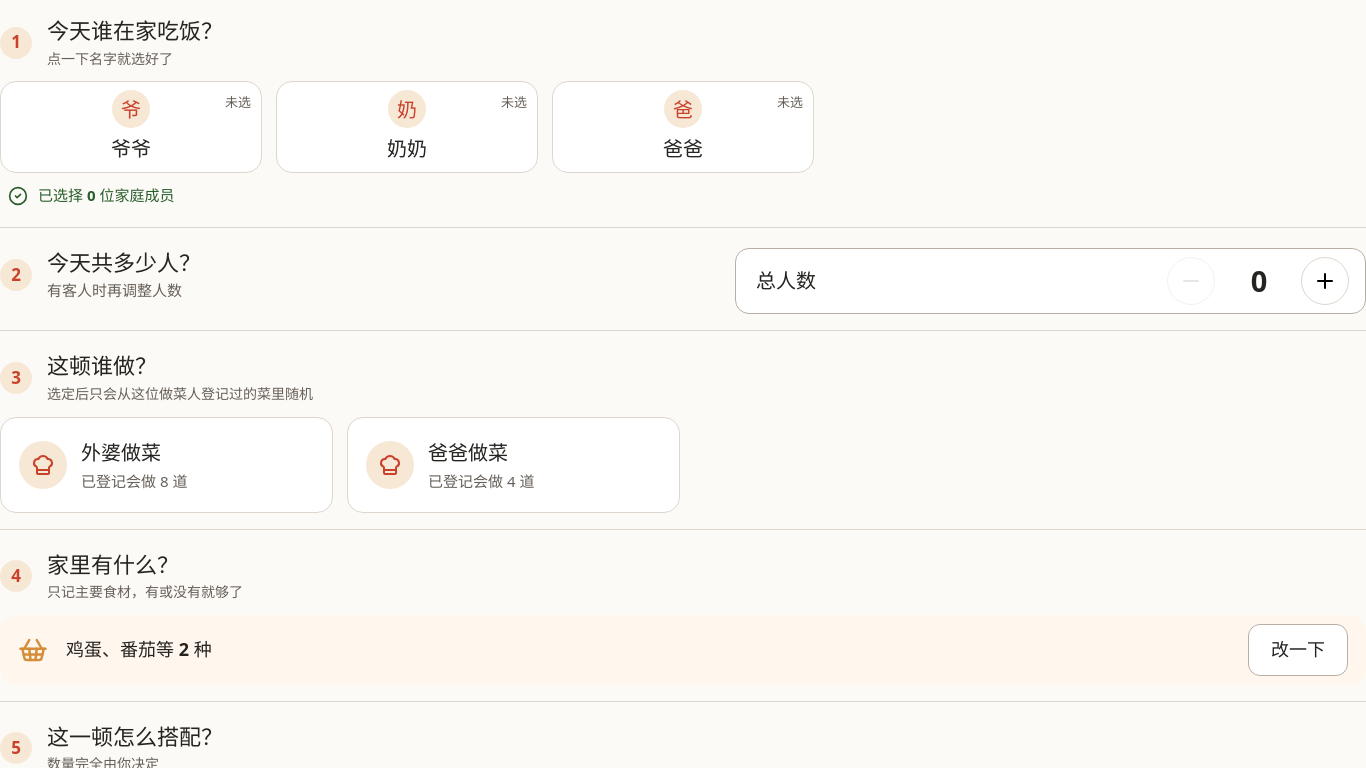
Test: MealSetup › requires one of the two cooks before enabling menu generation
What coordinates should you click on to do the following:
click the button named "选择外婆做菜"
I would click on:
 (43, 465)
Its box is [0, 417, 333, 513].
(page scrolled)
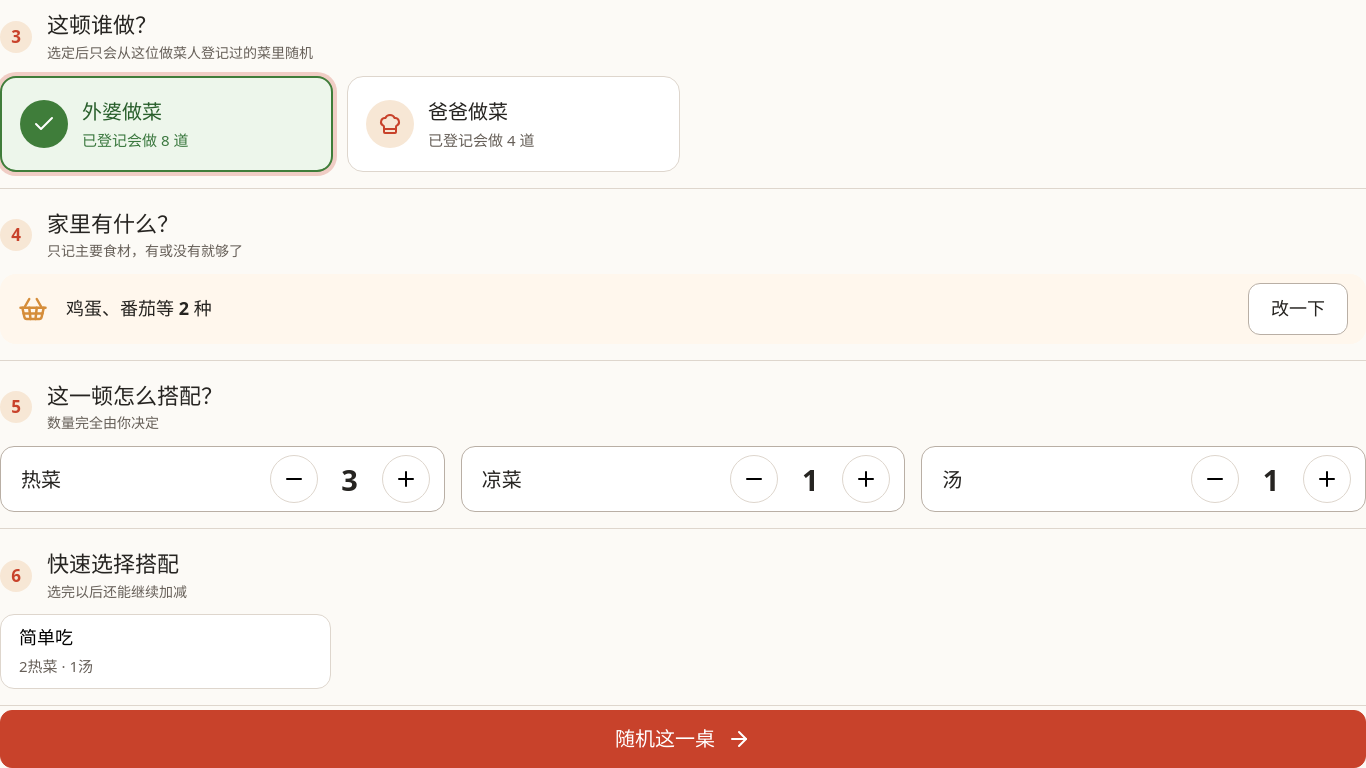
expect the button "随机这一桌" is enabled: met, box [0, 710, 1365, 767]
